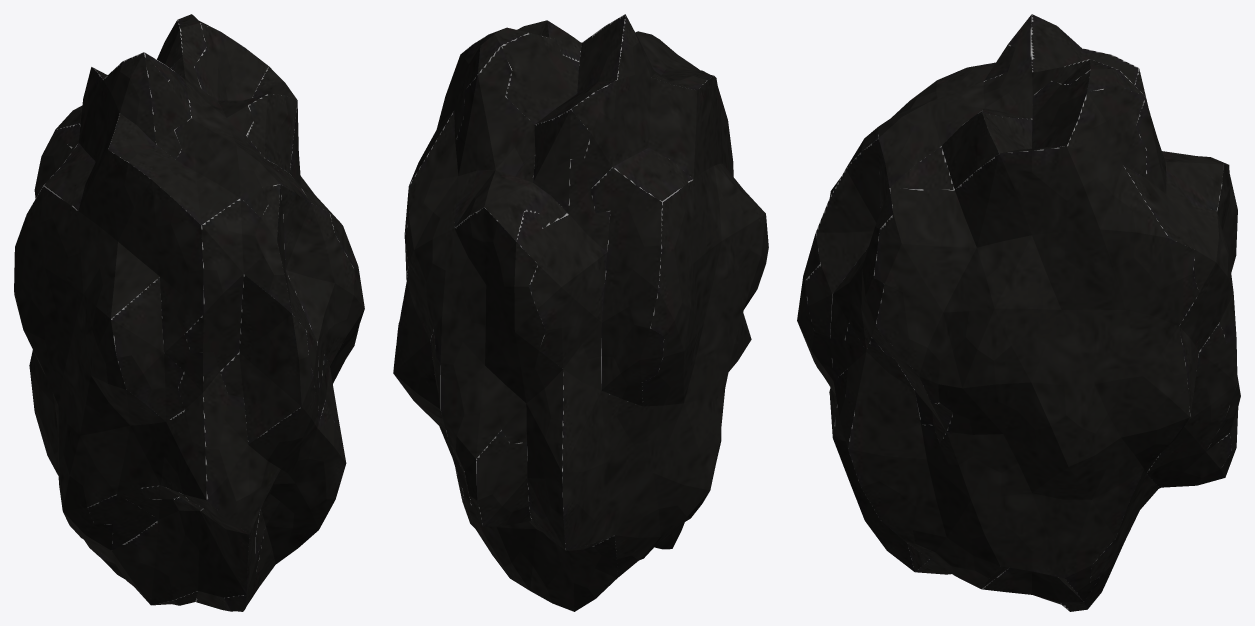
Rendered from asteroid7.dae.
3 renders of one model, left to right at view 1: azimuth 30°, elevation 25°; view 2: azimuth 150°, elevation 25°; view 3: azimuth 270°, elevation 25°, orthographic. The views are drawn at different scales.
Visible parts, largest first — view 1: asteroid7; view 2: asteroid7; view 3: asteroid7.
Boxes of the visible parts, x1=… form: asteroid7: x1=14, y1=14, x2=364, y2=611; asteroid7: x1=393, y1=14, x2=768, y2=611; asteroid7: x1=797, y1=14, x2=1240, y2=611.
Size of the model in its own units: 283 by 555 by 392.
1 material, 1 textured.
